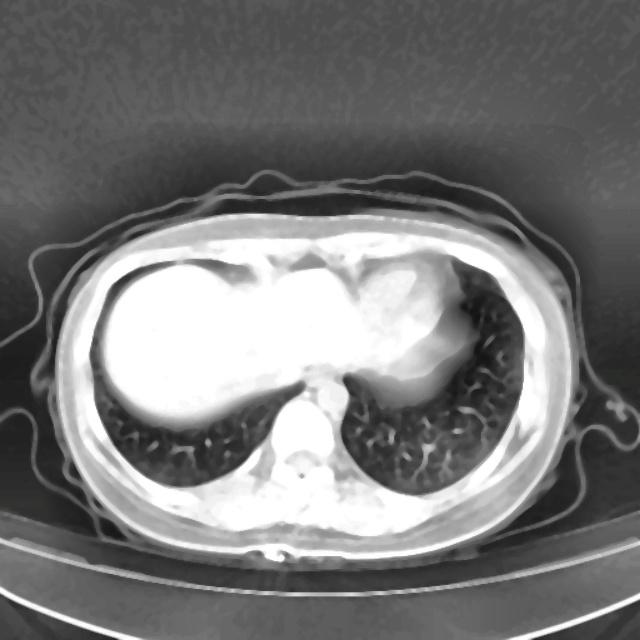covid: (7, 170, 631, 571)
